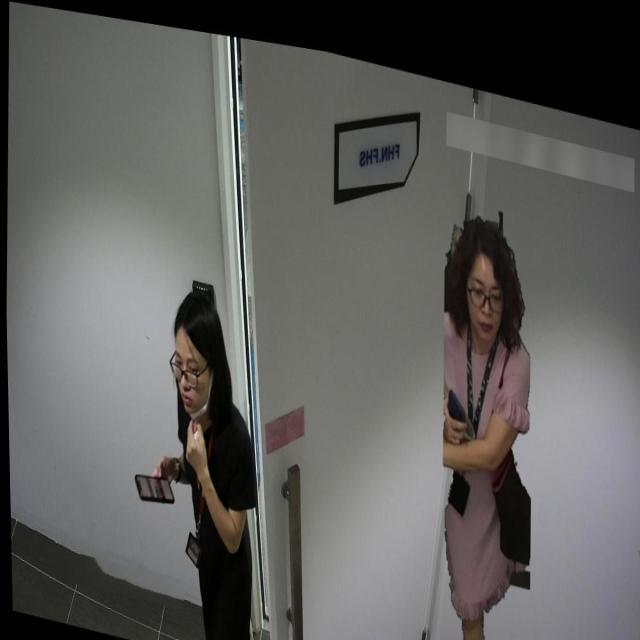hairnet: (168, 311, 218, 424)
